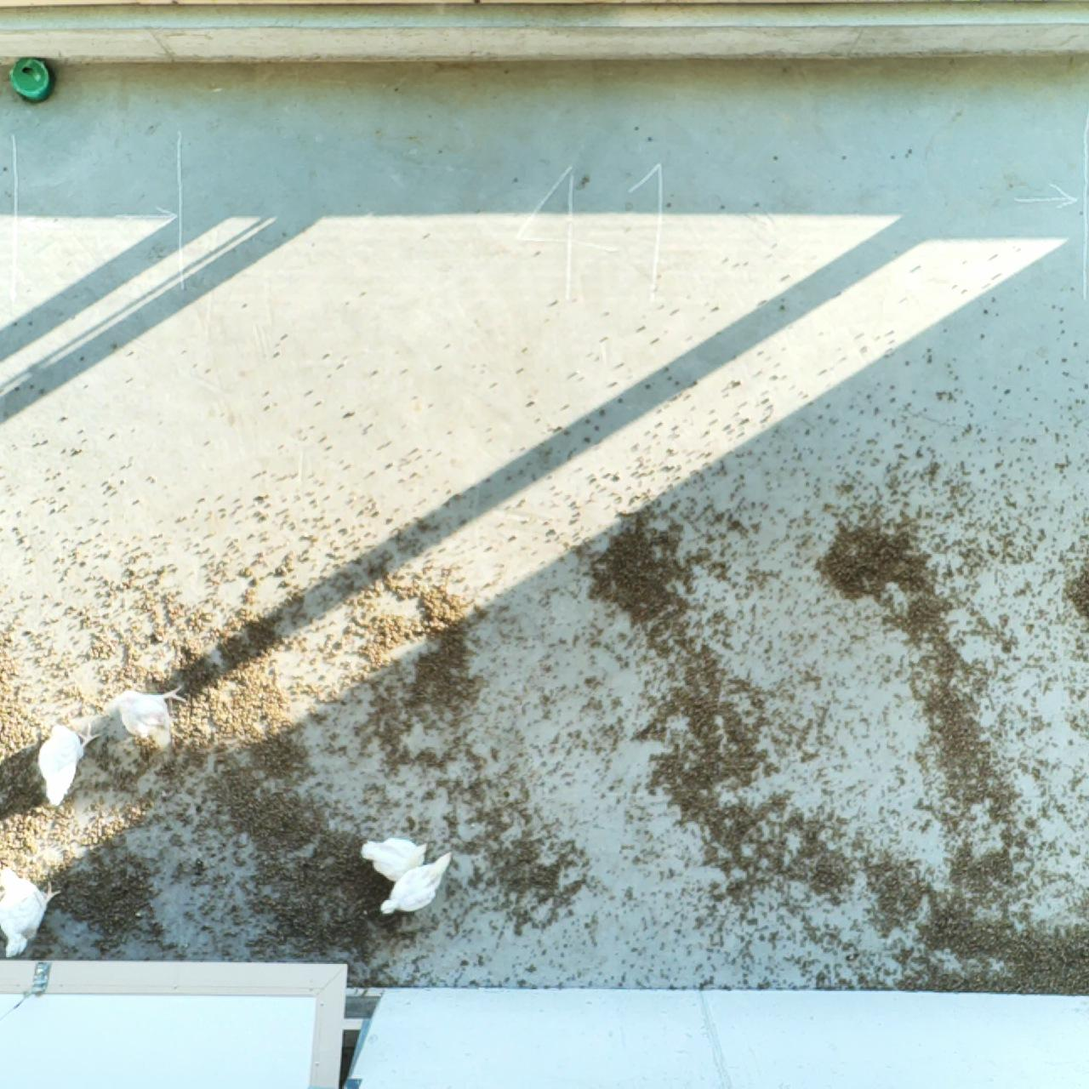chicken: (0, 851, 66, 959), (105, 677, 184, 751), (375, 847, 452, 922), (29, 720, 91, 813), (352, 830, 431, 892)
